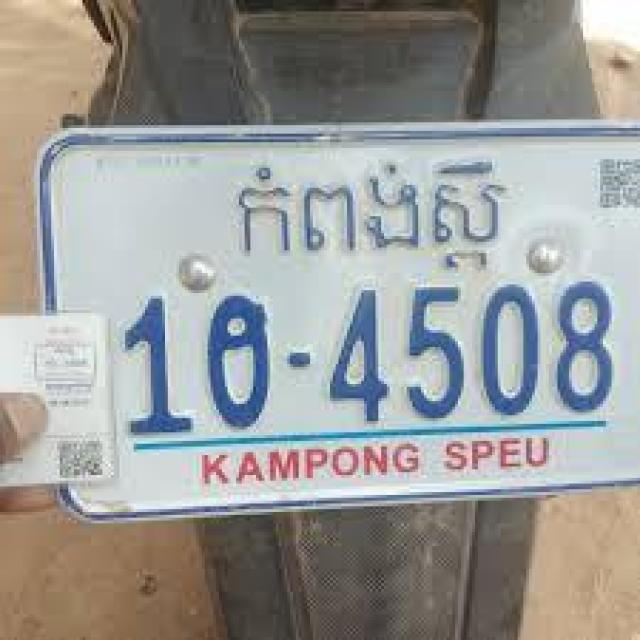Kampong_Speu: (231, 154, 512, 277)
